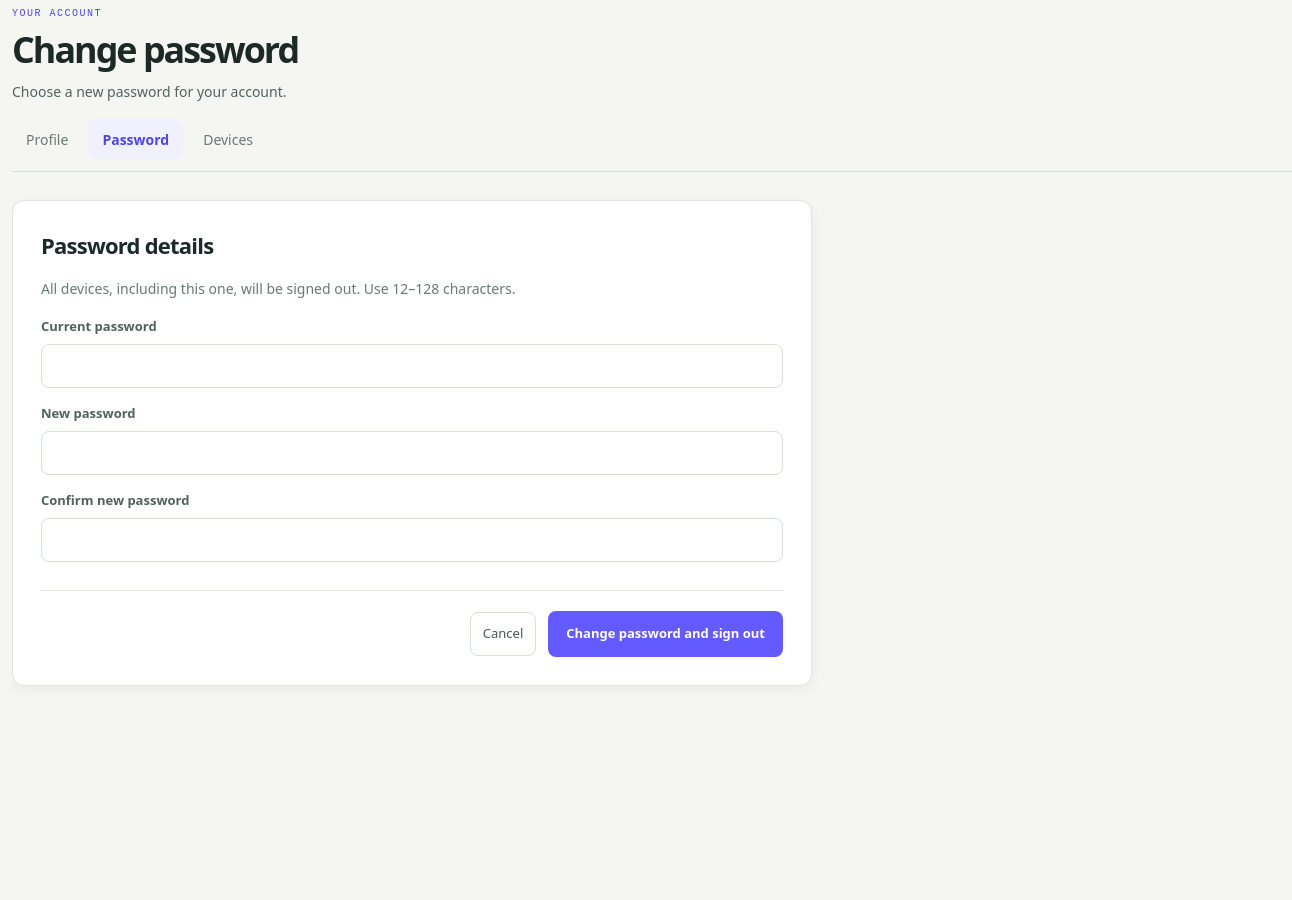
blocks mismatched password confirmation without fetching profile or devices
Type "current-password" into the password field labelled "Current password" at x=412, y=366, box [41,344,783,388]
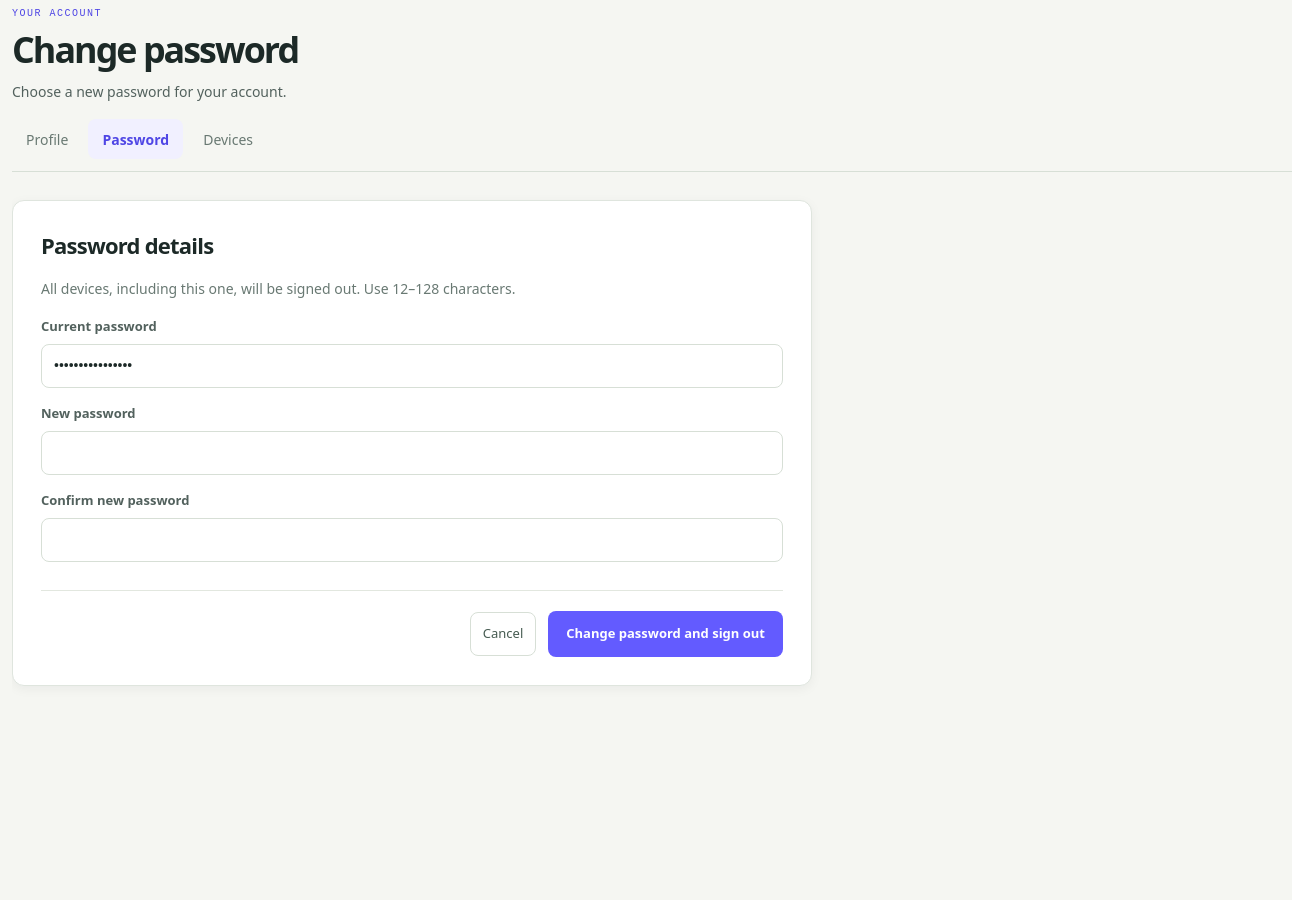
Type "next-password-123" into the password field labelled "New password" at x=412, y=453, box [41,431,783,475]
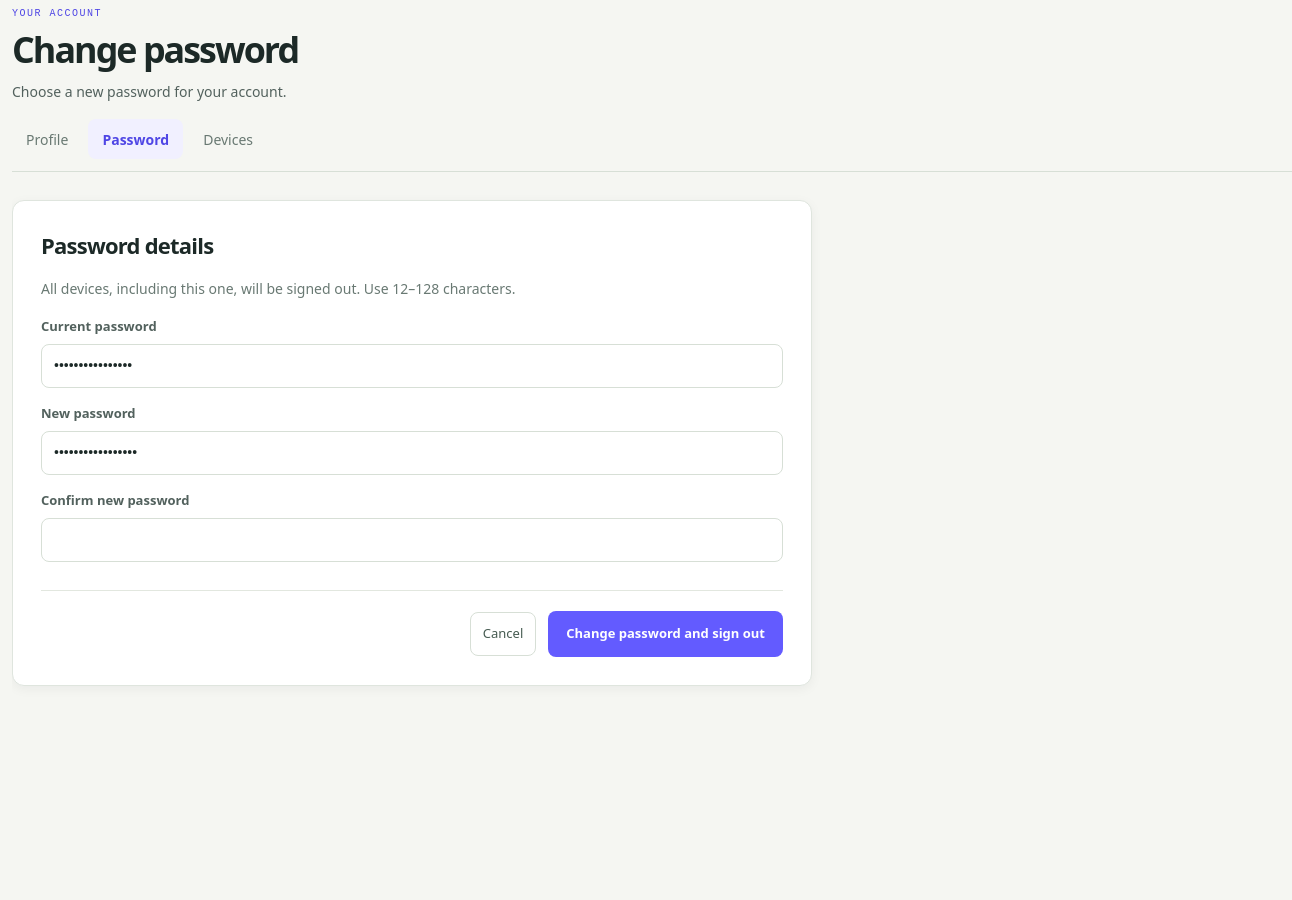
Type "different-password" into the password field labelled "Confirm new password" at x=412, y=540, box [41,518,783,562]
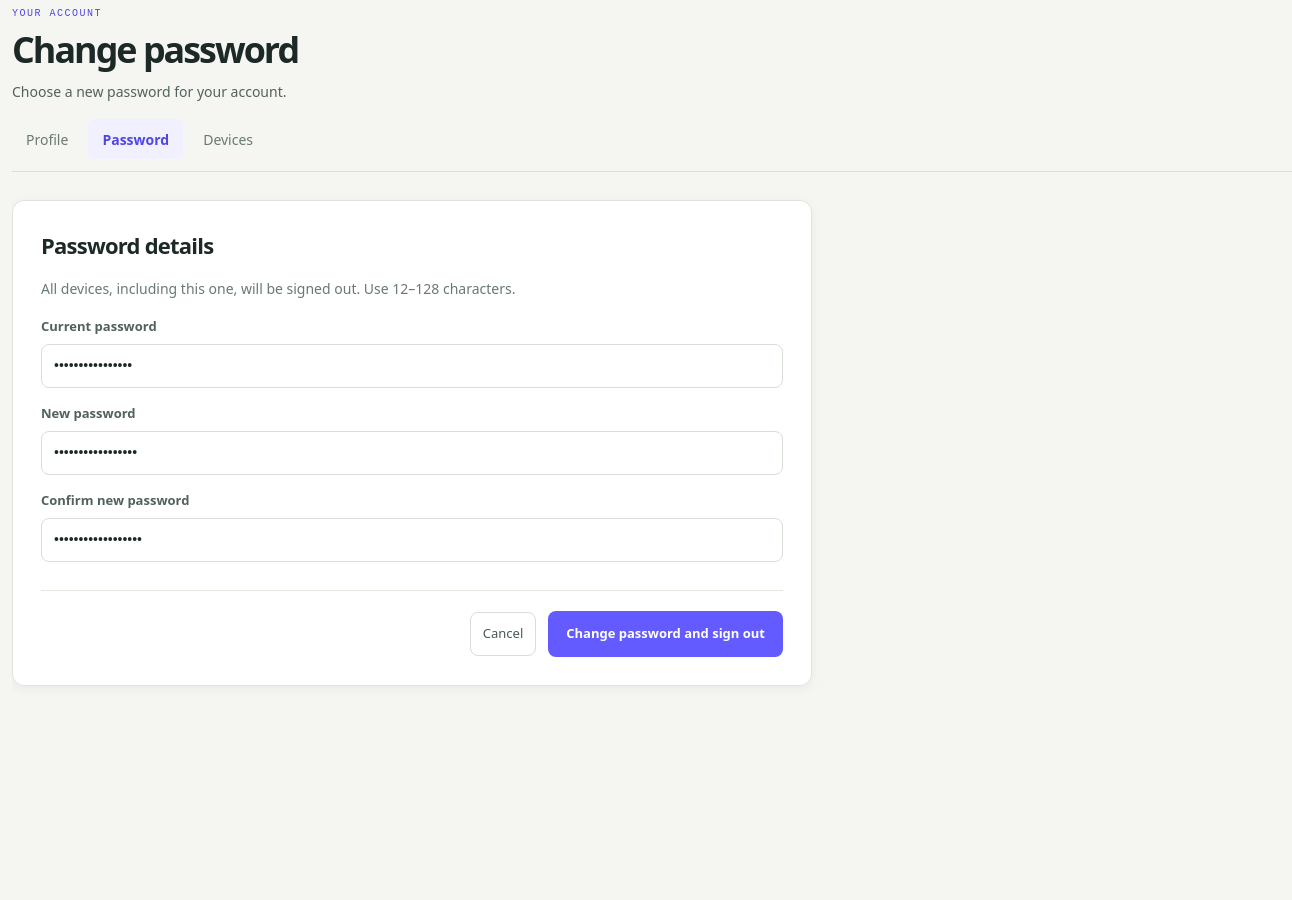
Submit the form named "New password", box [12,200,812,686]
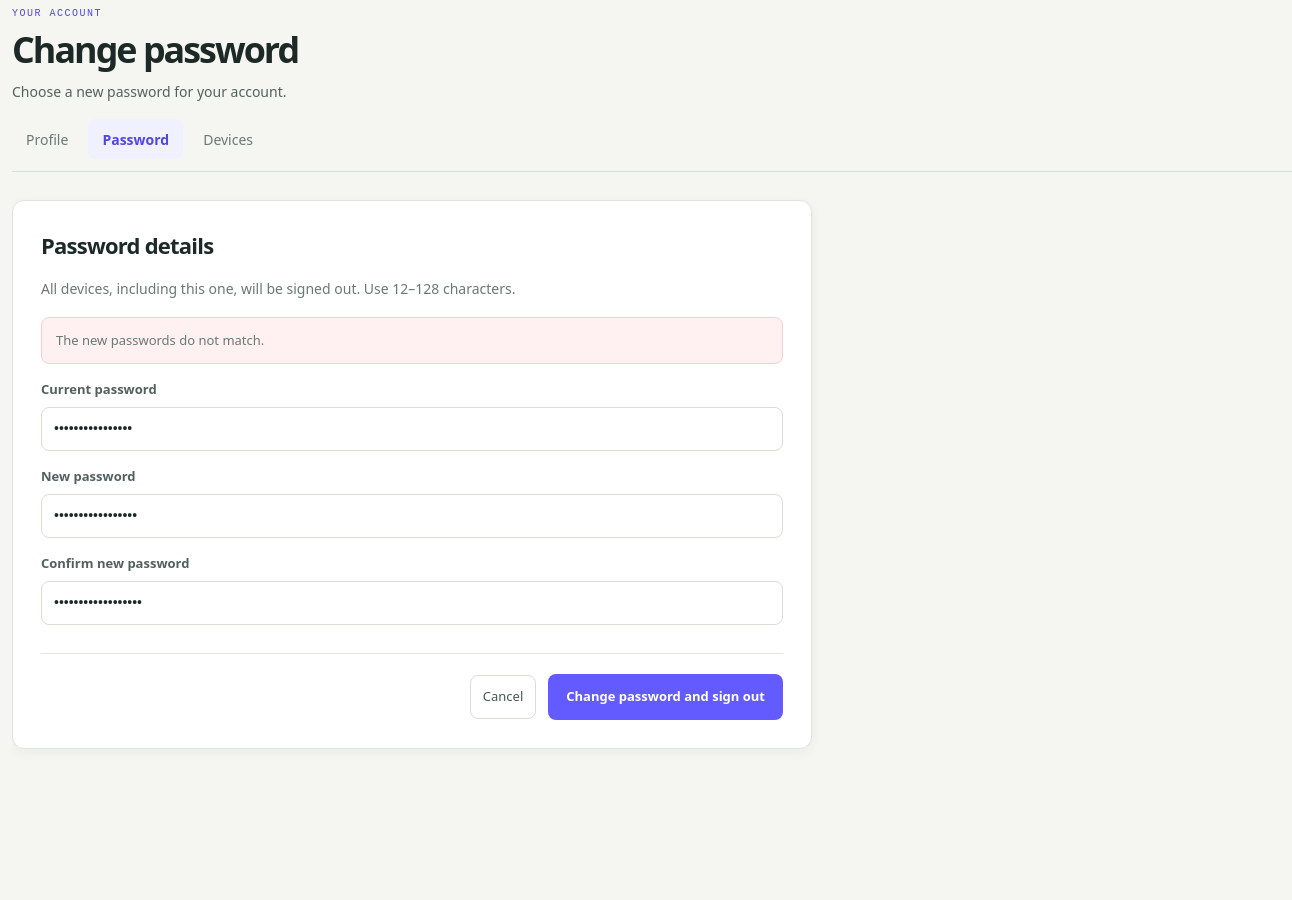
Result: the text "The new passwords do not match." is shown at [41,317,783,364]
